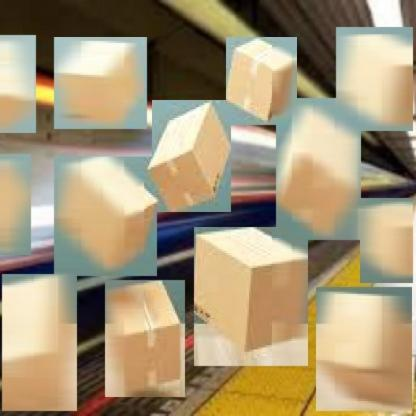box: (192, 225, 310, 369), (53, 154, 159, 279), (274, 96, 364, 242), (314, 285, 414, 414), (1, 272, 79, 414), (104, 279, 186, 399), (151, 98, 233, 214), (52, 36, 150, 131), (336, 26, 414, 133), (225, 36, 299, 126), (360, 197, 414, 285), (0, 34, 37, 135), (0, 153, 32, 257)
